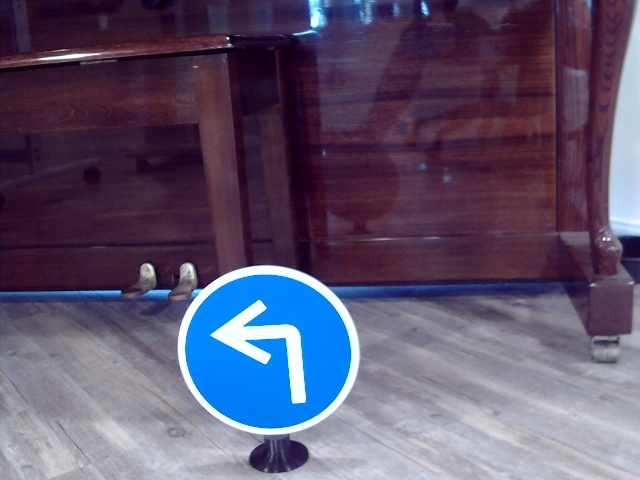turn_left: (210, 294, 313, 408)
